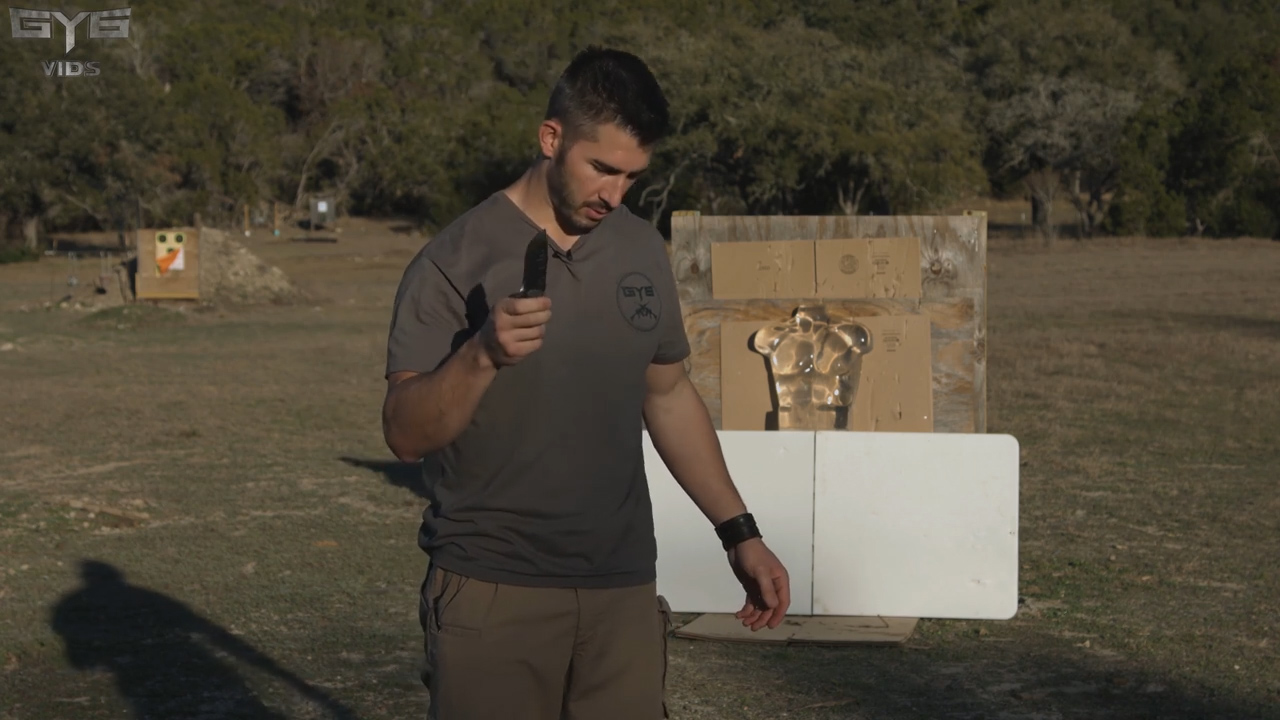knife: (493, 216, 557, 347)
